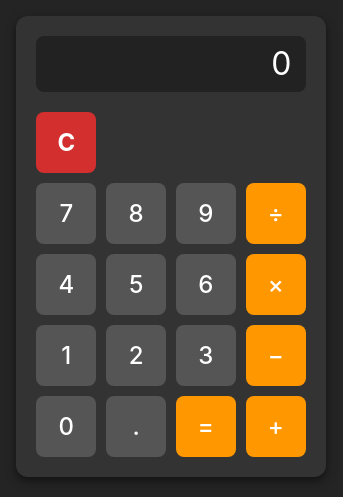
Test case: App component › updates display when digits are clicked
Click the button "1" at (66, 355), box [36,324,96,386]
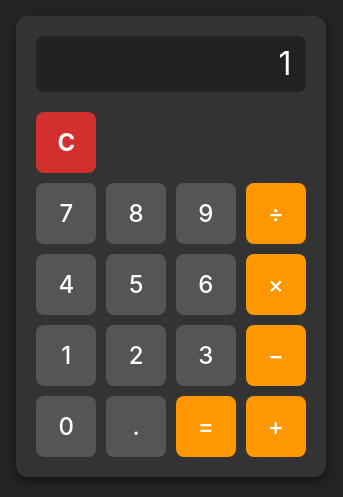
Click the button "2" at (136, 355), box [106,324,166,386]
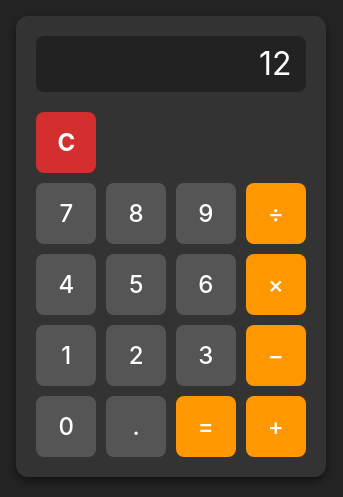
Check: the text with test id "display" reads "12", box [259,44,292,83]
